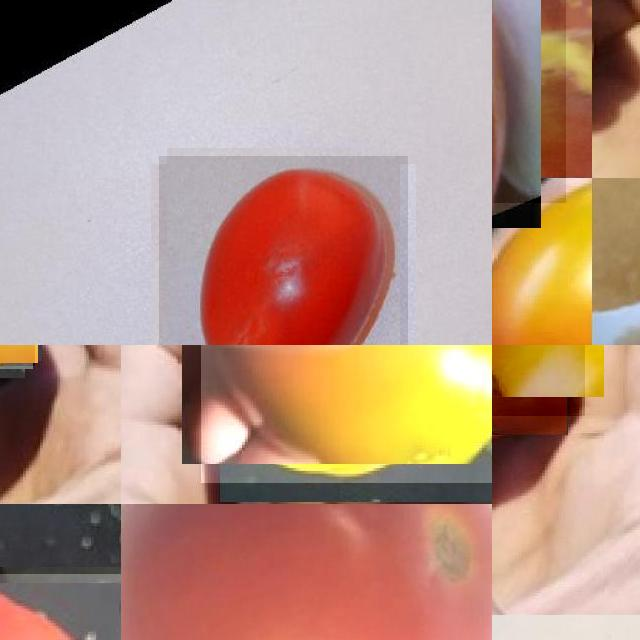0: (158, 156, 408, 345), (492, 178, 592, 345)
1: (492, 0, 566, 203)
Fresh Tomato: (121, 504, 492, 640)
Rotten Tomato: (201, 345, 492, 483)
